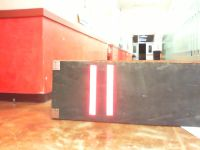switch: (88, 64, 97, 116), (105, 64, 114, 116)
